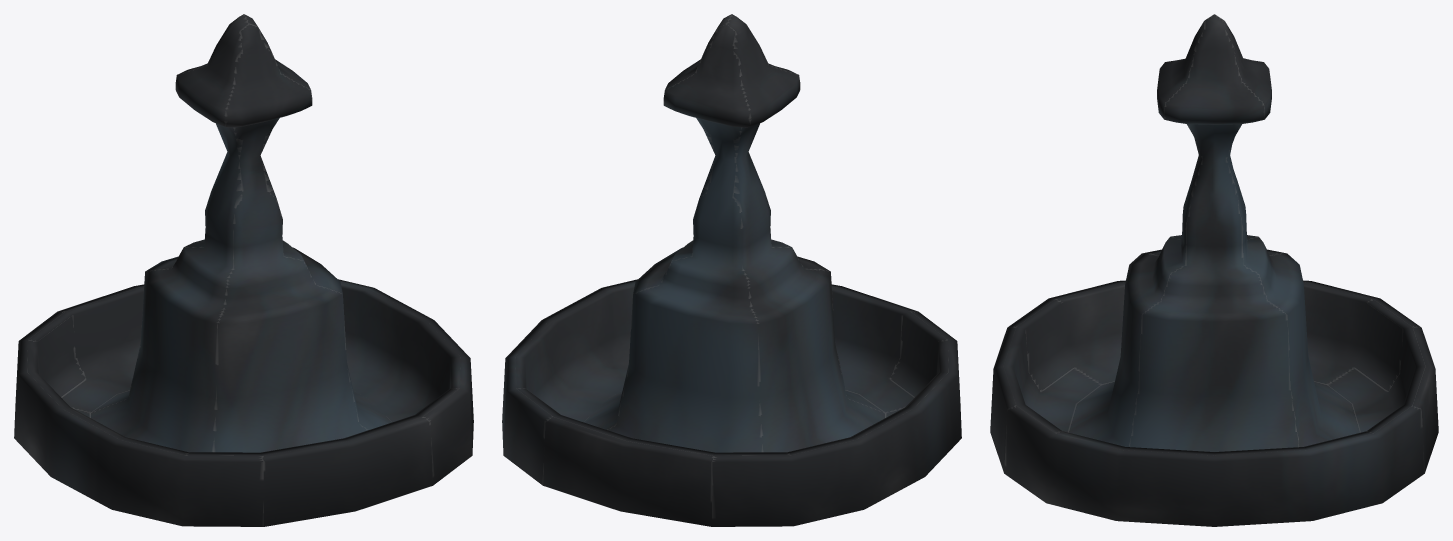
The model's file is Fountain.fbx.
3 renders of one model, left to right at view 1: azimuth 30°, elevation 25°; view 2: azimuth 150°, elevation 25°; view 3: azimuth 270°, elevation 25°, orthographic.
Visible parts, largest first — view 1: Fountain; view 2: Fountain; view 3: Fountain.
Boxes of the visible parts, x1,y1,x2,y2 form: Fountain: (14,14,473,526); Fountain: (502,14,961,526); Fountain: (990,14,1438,526).
Bounding box in the file's own units: 518 × 549 × 518.
1 material, 1 textured.
